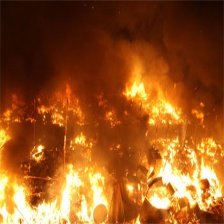fire: (121, 146, 224, 218), (1, 162, 116, 224), (8, 92, 94, 160), (114, 78, 208, 127)
smoke: (94, 8, 205, 79), (2, 9, 59, 89)
